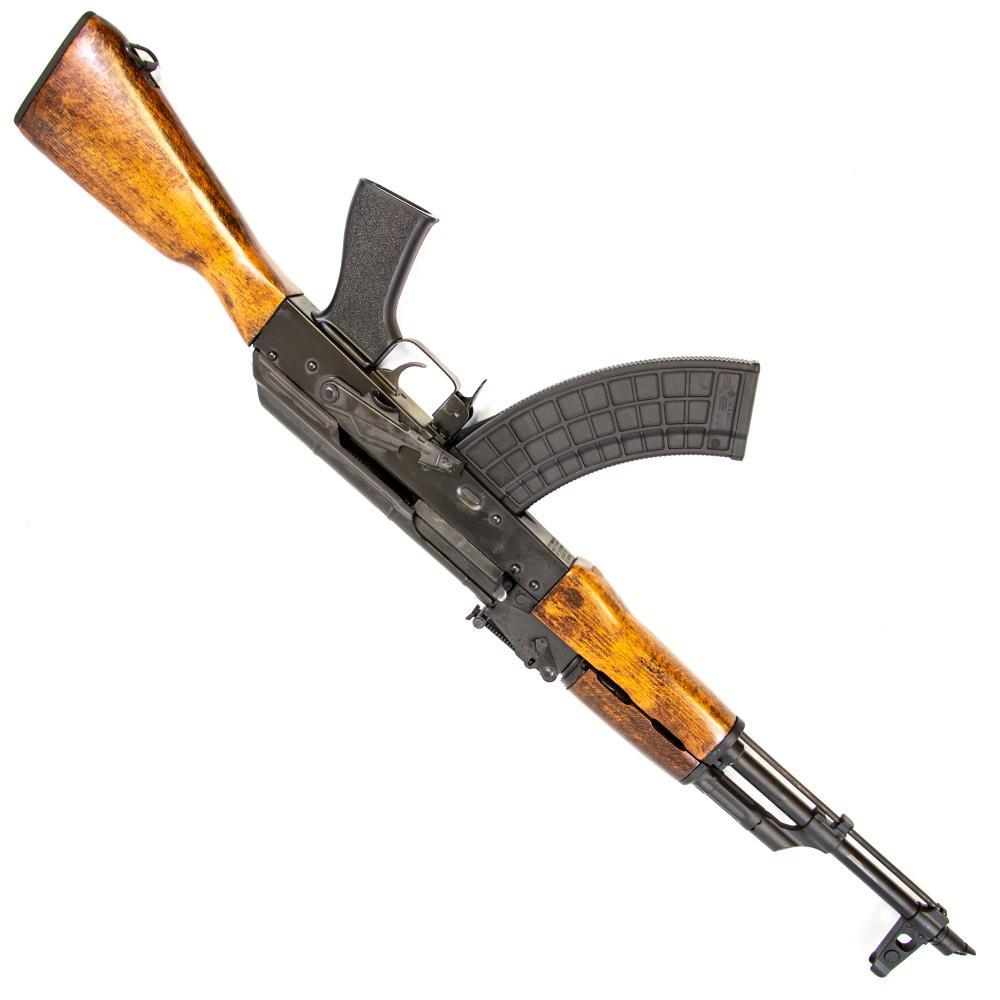larga: (11, 6, 978, 981)
